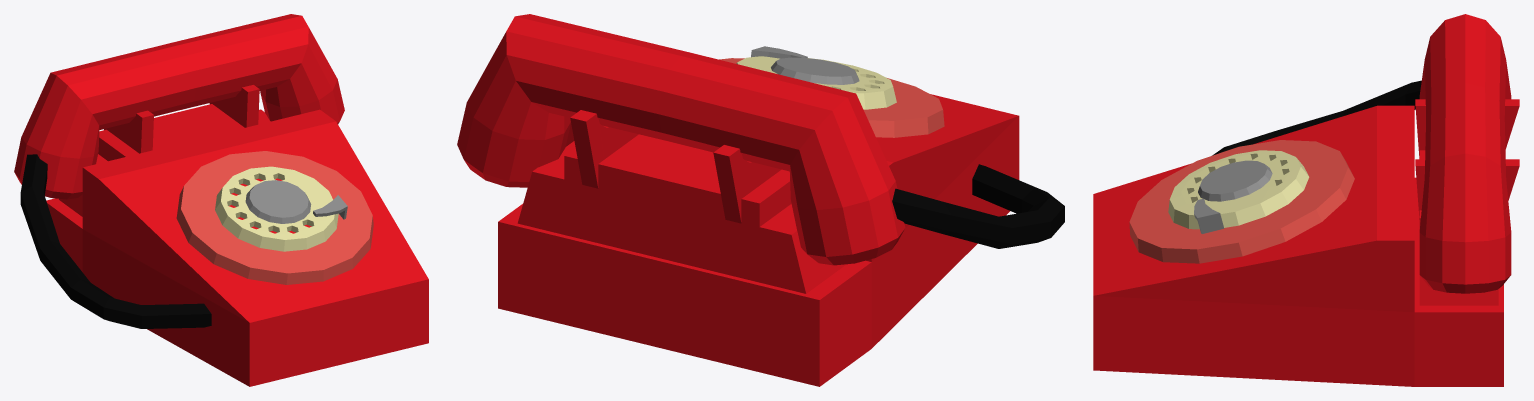
Rendered from Phone.fbx.
3 renders of one model, left to right at view 1: azimuth 30°, elevation 25°; view 2: azimuth 150°, elevation 25°; view 3: azimuth 270°, elevation 25°, orthographic. The views are drawn at different scales.
Visible parts, largest first — view 1: Cube; view 2: Cube; view 3: Cube.
Boxes of the visible parts, x1,y1,x2,y2 form: Cube: [14, 14, 428, 386]; Cube: [457, 14, 1064, 386]; Cube: [1093, 14, 1519, 386].
Bounding box in the file's own units: 230 × 127 × 208.
